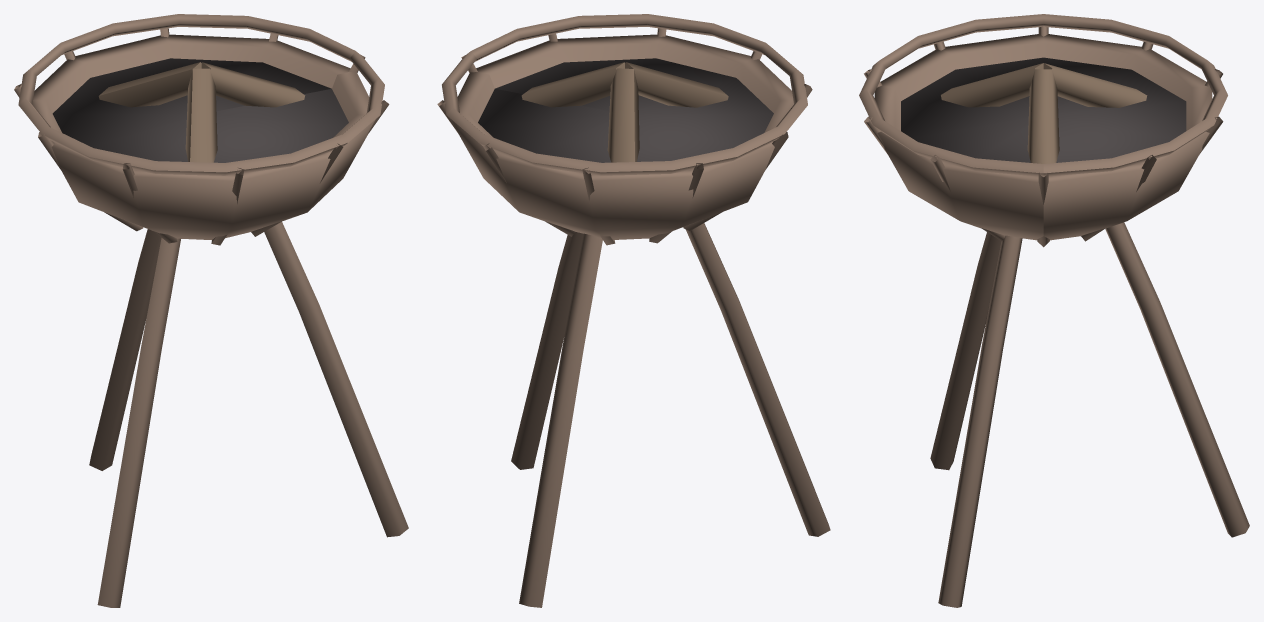
Rendered from feuerkorb.glb.
The picture shows the model from 3 angles, left to right: view 1: azimuth 30°, elevation 25°; view 2: azimuth 150°, elevation 25°; view 3: azimuth 270°, elevation 25°; orthographic projection.
Parts seen in each view (by area): view 1: G_feuerkorb; view 2: G_feuerkorb; view 3: G_feuerkorb.
Boxes of the visible parts, left/top/right/bottom form: G_feuerkorb: left=14, top=14, right=408, bottom=607; G_feuerkorb: left=437, top=14, right=830, bottom=607; G_feuerkorb: left=859, top=14, right=1249, bottom=607.
Size of the model in its own units: 1.06 by 1.46 by 1.1.
